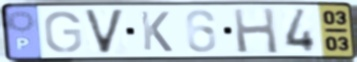4: (282, 7, 318, 54)
6: (184, 8, 219, 54)
G: (42, 9, 85, 55)
H: (230, 6, 281, 55)
K: (138, 9, 175, 54)
V: (81, 7, 128, 56)
